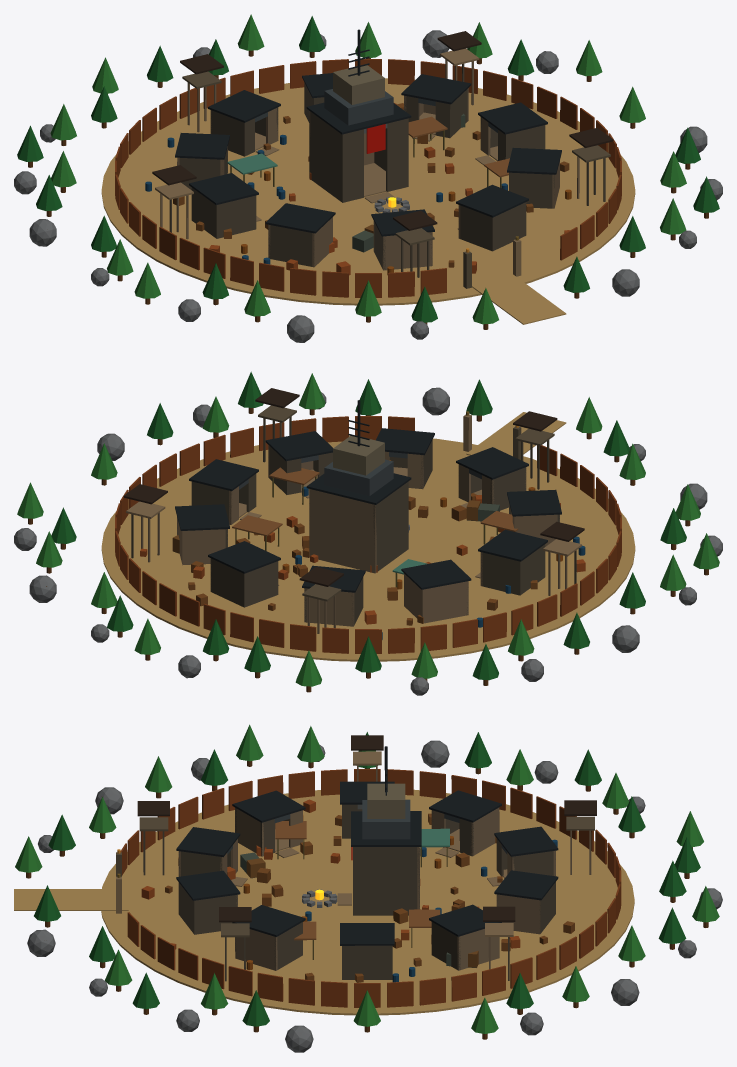
File: ScavengerCamp.glb
The picture shows the model from 3 angles, top to bottom: view 1: azimuth 30°, elevation 25°; view 2: azimuth 150°, elevation 25°; view 3: azimuth 270°, elevation 25°; orthographic projection.
Parts seen in each view (by area): view 1: CampGround, Command_Front-1, Crate12, Command_Roof, Tree0, Tree10, Command_Floor, FireStone0, Crate0, Canopy0, CommandUpper1, Barrel1; view 2: CampGround, Crate12, Command_Roof, Command_Front-1, Command_Floor, Tree0, Tree10, FireStone0, Crate0, Canopy0, CommandUpper1; view 3: CampGround, Crate12, Command_Front-1, Command_Roof, Command_Floor, Tree0, Tree10, FireStone0, Crate0, Canopy0, CommandUpper1.
Boxes of the visible parts, x1,y1,x2,y2 form: CampGround: (101, 78, 635, 324); Command_Front-1: (169, 63, 610, 288); Crate12: (115, 59, 621, 297); Command_Roof: (152, 29, 613, 236); Tree0: (50, 14, 686, 324); Tree10: (17, 16, 719, 322); Command_Floor: (155, 48, 579, 276); FireStone0: (14, 30, 722, 342); Crate0: (28, 50, 708, 329); Canopy0: (227, 116, 509, 187); CommandUpper1: (333, 65, 469, 252); Barrel1: (145, 134, 507, 264); CampGround: (101, 412, 635, 661); Crate12: (115, 416, 621, 653); Command_Roof: (123, 388, 584, 592); Command_Front-1: (131, 405, 576, 625); Command_Floor: (126, 414, 581, 633); Tree0: (17, 373, 719, 686); Tree10: (51, 371, 686, 680); FireStone0: (14, 387, 722, 695); Crate0: (28, 408, 708, 692); Canopy0: (232, 467, 518, 587); CommandUpper1: (333, 425, 518, 475); CampGround: (14, 789, 634, 1015); Crate12: (120, 769, 621, 1007); Command_Front-1: (116, 799, 594, 981); Command_Roof: (137, 735, 596, 945); Command_Floor: (116, 751, 591, 970); Tree0: (15, 724, 719, 1033); Tree10: (34, 732, 700, 1026); FireStone0: (27, 740, 722, 1052); Crate0: (26, 761, 708, 1039); Canopy0: (275, 821, 449, 959); CommandUpper1: (117, 783, 405, 853).
Size of the model in its own units: 73.58 by 18.85 by 74.24.
